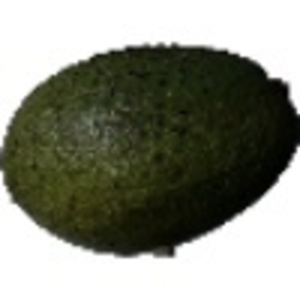abacate: (1, 41, 295, 251)
